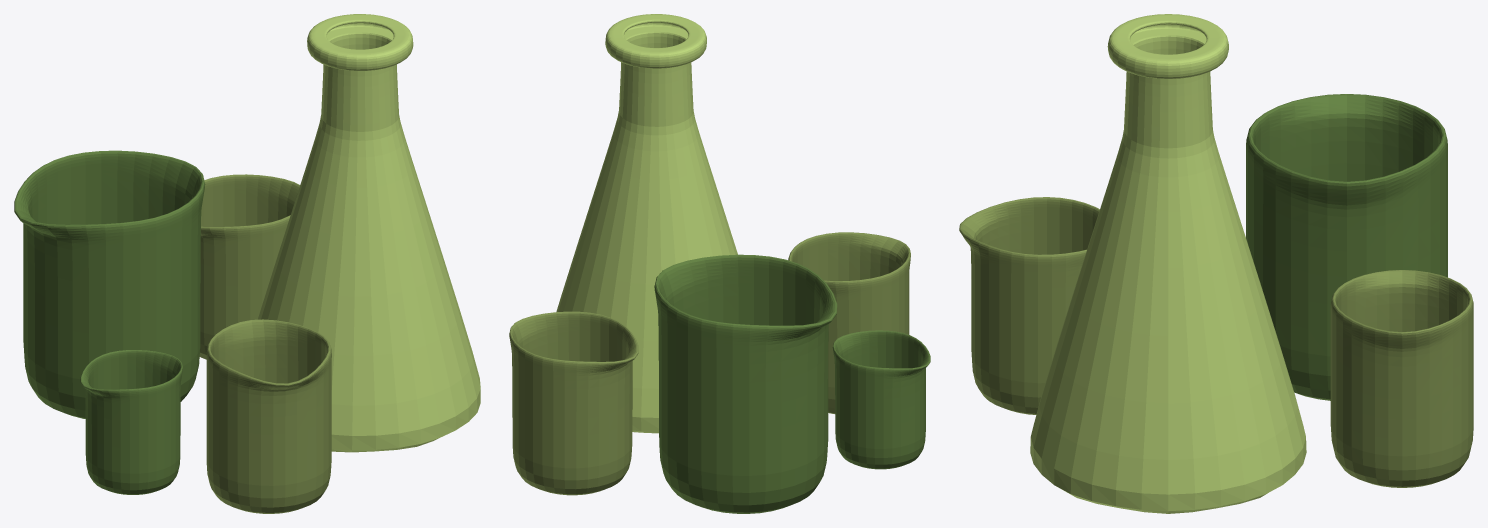
File: Beaker_Group4.glb
The picture shows the model from 3 angles, left to right: view 1: azimuth 30°, elevation 25°; view 2: azimuth 150°, elevation 25°; view 3: azimuth 270°, elevation 25°; orthographic projection. The views are drawn at different scales.
Parts seen in each view (by area): view 1: pCylinder6, pCylinder2, pCylinder3, pCylinder8, pCylinder9; view 2: pCylinder2, pCylinder6, pCylinder9, pCylinder8, pCylinder3; view 3: pCylinder6, pCylinder2, pCylinder9, pCylinder3.
Boxes of the visible parts, x1,y1,x2,y2 form: pCylinder6: [258, 14, 480, 452]; pCylinder2: [14, 150, 205, 418]; pCylinder3: [206, 319, 331, 513]; pCylinder8: [80, 350, 182, 494]; pCylinder9: [199, 174, 299, 359]; pCylinder2: [654, 254, 837, 513]; pCylinder6: [556, 14, 737, 433]; pCylinder9: [509, 311, 638, 495]; pCylinder8: [832, 330, 930, 469]; pCylinder3: [788, 232, 910, 413]; pCylinder6: [1030, 14, 1306, 513]; pCylinder2: [1246, 94, 1447, 400]; pCylinder9: [1330, 270, 1473, 487]; pCylinder3: [959, 197, 1099, 414].
Size of the model in its own units: 1.25 by 1.21 by 1.27.
